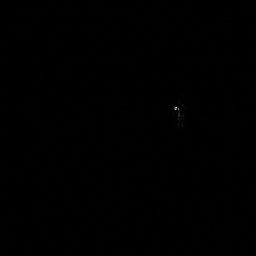ship: (173, 101, 185, 128)
